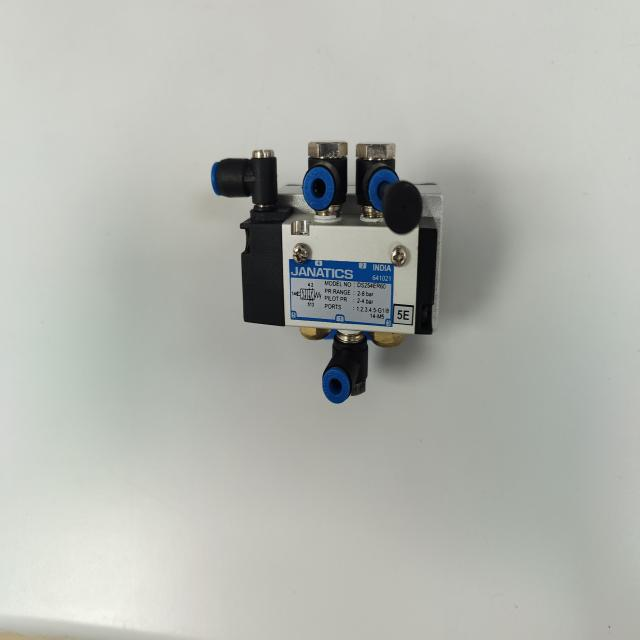5by2 DCV: (202, 120, 454, 414)
